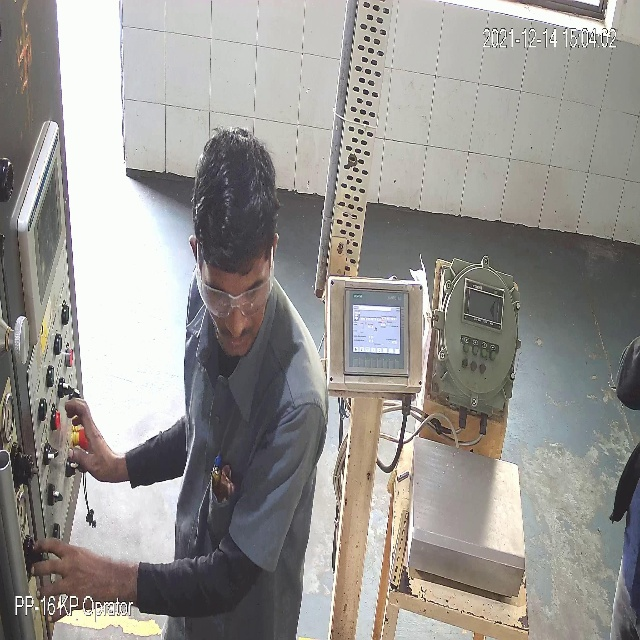Gafas: (193, 270, 275, 318)
Sin_mascara: (213, 311, 260, 362)
